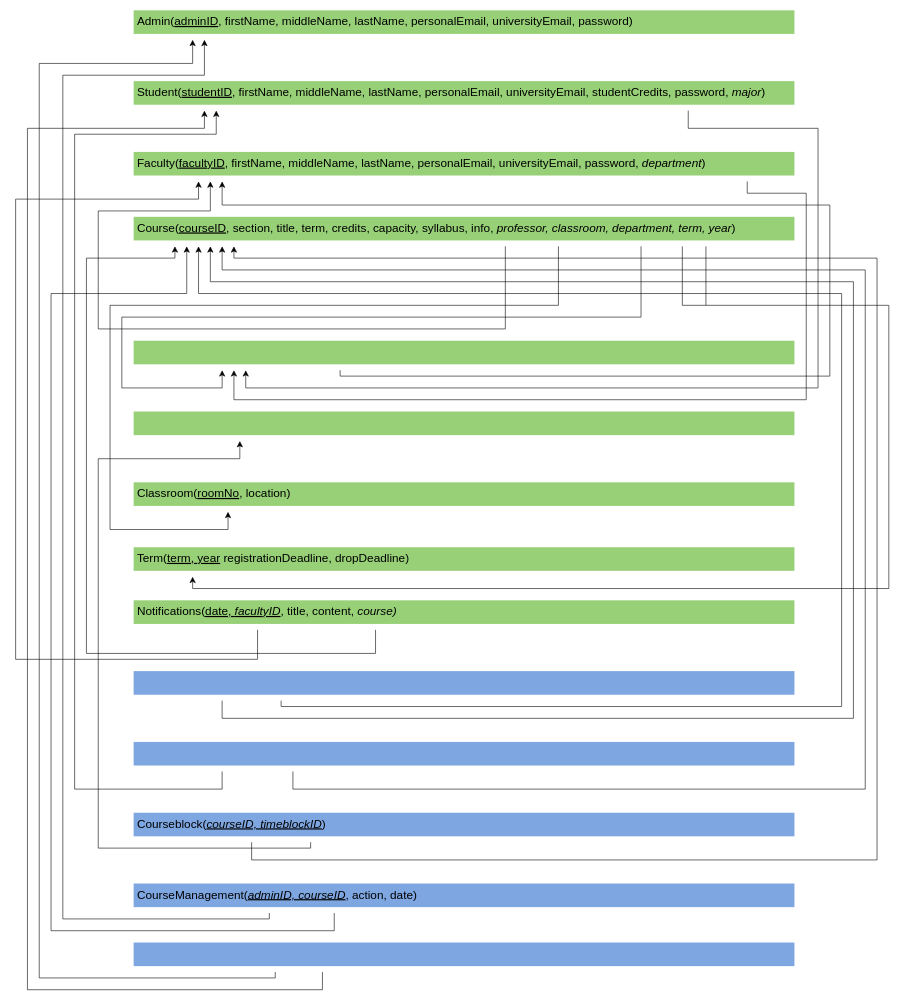
This 905x1006 diagram has some shape labels left out. Here are the shapes that lost their labels. From the top down, the centre of each, then its label:
At (x=463, y=352): "Department( deptName , email, chair )".
At (x=463, y=423): "Timeblock( timeblockID , day, startTime, endTime)".
At (x=463, y=682): "Prerequisites( course, prerequisite )".
At (x=463, y=753): "Enrollments( studentID , courseID , grade, status)".
At (x=463, y=954): "StudentManagement( adminID, studentID , action, date)".
